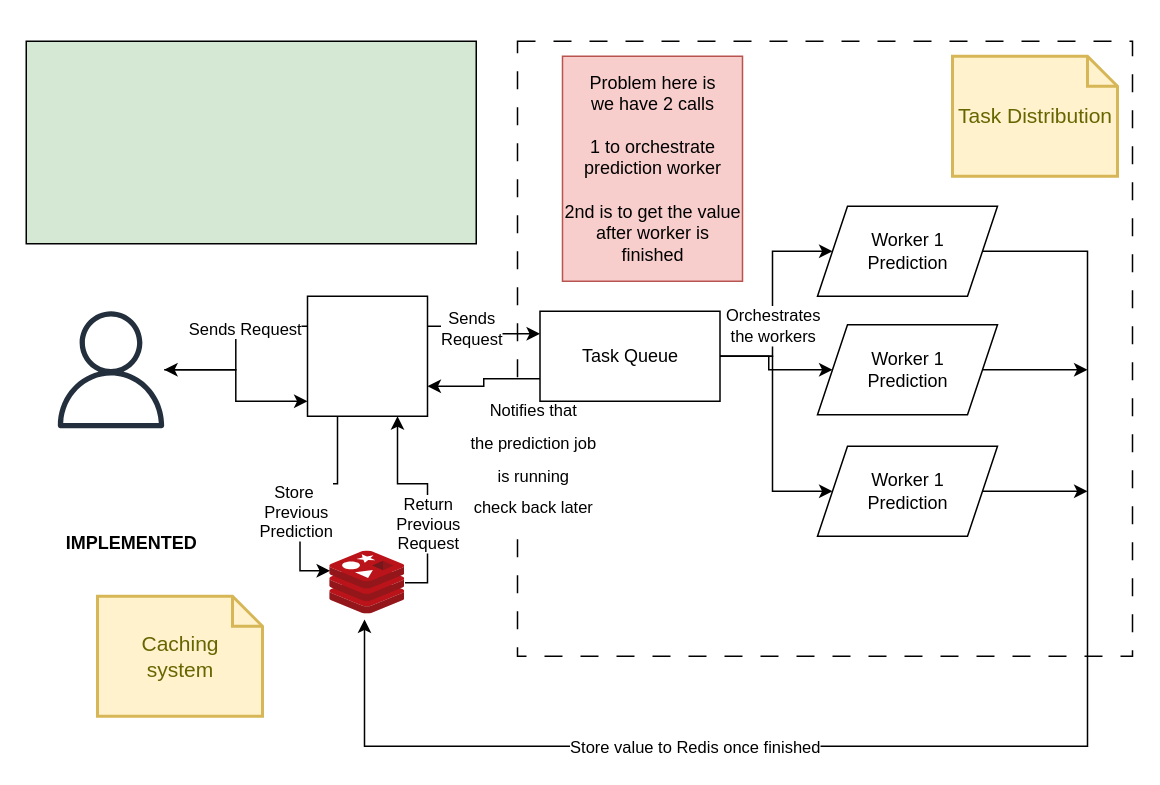
This 1160x785 diagram has some shape labels left out. The shapes that lost their labels are listed below. From the top down, each one's centre as x and y in pixels, then its label:
the point at 250,142: Implementation 1 On-demand forecasting request with caching and task queues.
the point at 367,355: Prediction API
the point at 366,582: feature/celery-task
